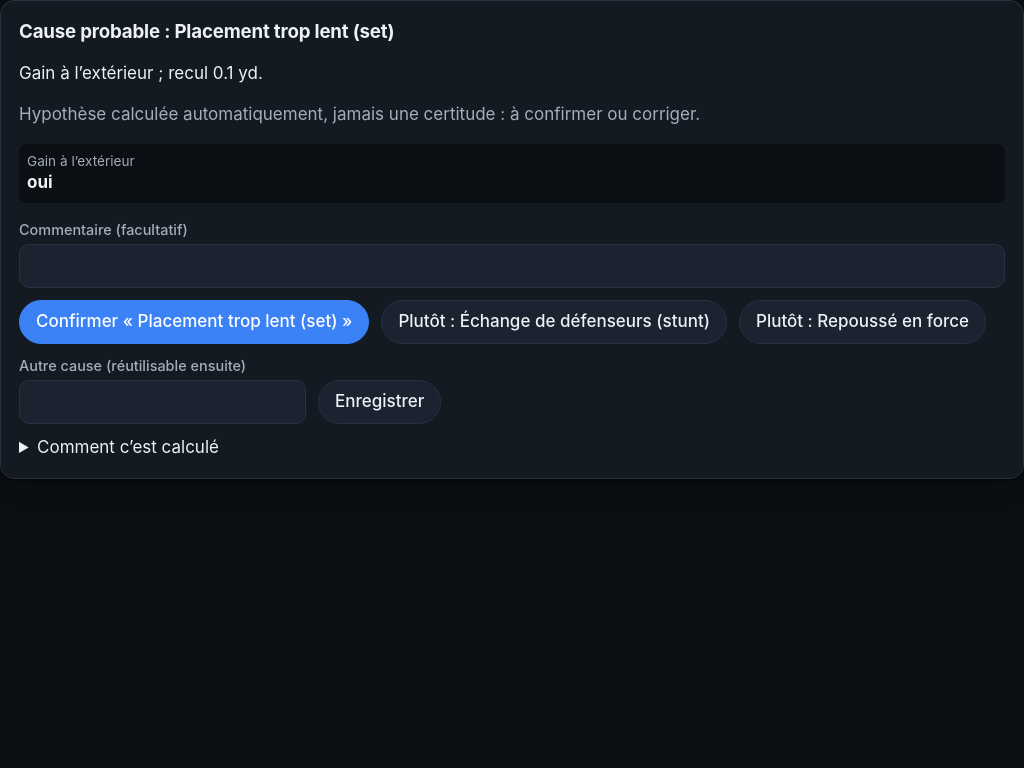
DiagnosisPanel › présente une cause probable et la confirme en 1 clic
The image size is (1024, 768).
Expected: the heading "Cause probable : Placement trop lent (set)" is shown, [19,20,394,43]
Expected: the text "jamais une certitude" is shown, [19,104,700,124]
Click the button "Confirmer « Placement trop lent (set) »" at (194, 322), box [19,300,369,344]
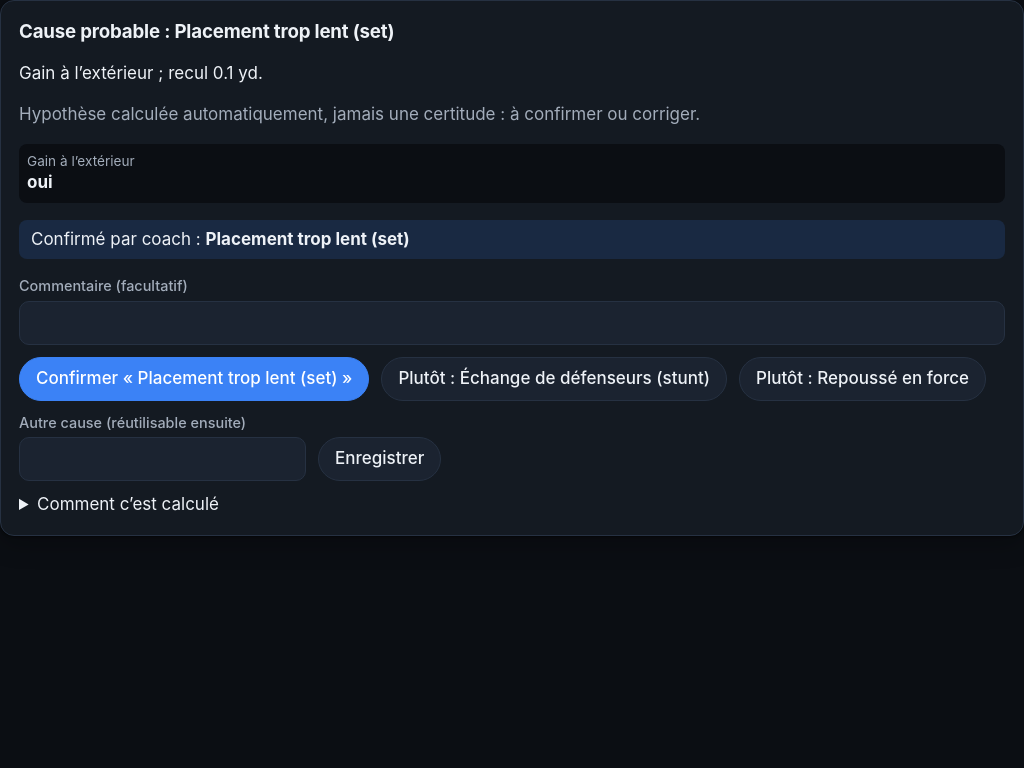
Now the message shows "Confirmé par coach", box [19,220,1005,259]
